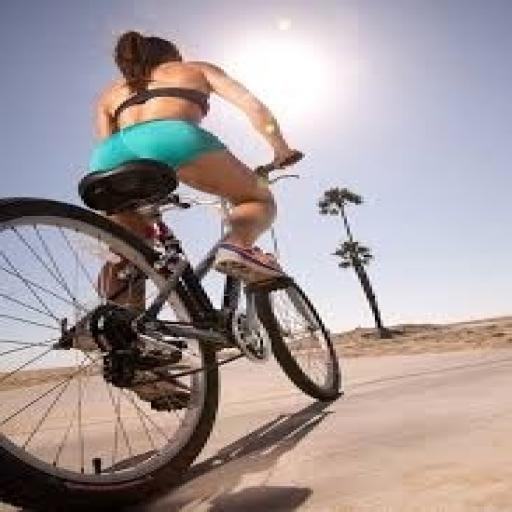cycling: (70, 28, 308, 408)
